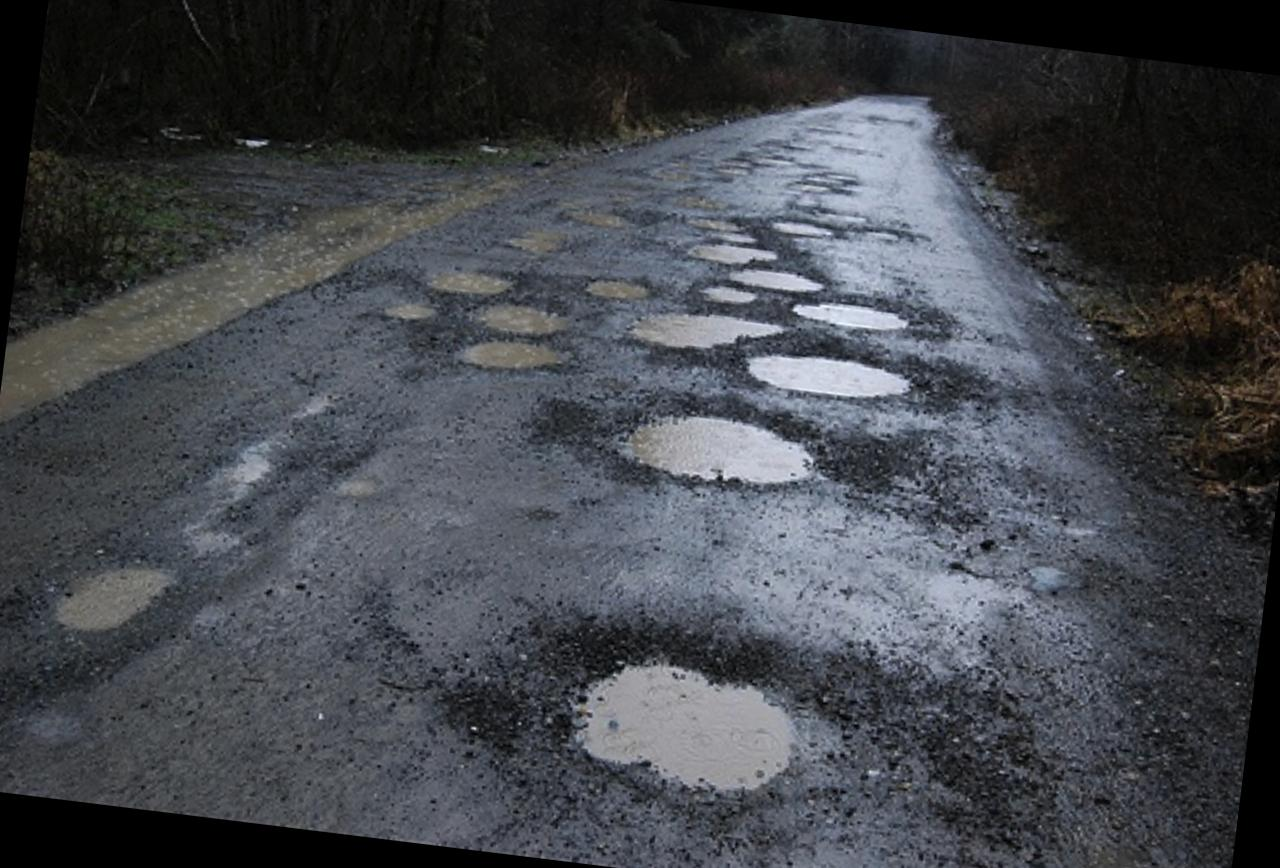pothole: (518, 584, 884, 836), (595, 360, 877, 545), (40, 528, 213, 670), (1027, 758, 1241, 868), (738, 340, 949, 422), (612, 295, 798, 369), (446, 316, 586, 389), (794, 294, 950, 356), (466, 287, 594, 349), (686, 231, 806, 284), (424, 251, 532, 304), (496, 221, 595, 272), (555, 198, 675, 240), (575, 266, 668, 316), (696, 270, 780, 316), (733, 258, 827, 299), (761, 200, 844, 246), (384, 285, 455, 334), (661, 184, 743, 225), (642, 150, 708, 196), (786, 168, 854, 212), (746, 138, 818, 174), (864, 109, 934, 141), (594, 172, 650, 210), (691, 211, 754, 241), (709, 156, 763, 189), (856, 215, 908, 249), (834, 140, 884, 164), (791, 120, 850, 140)
